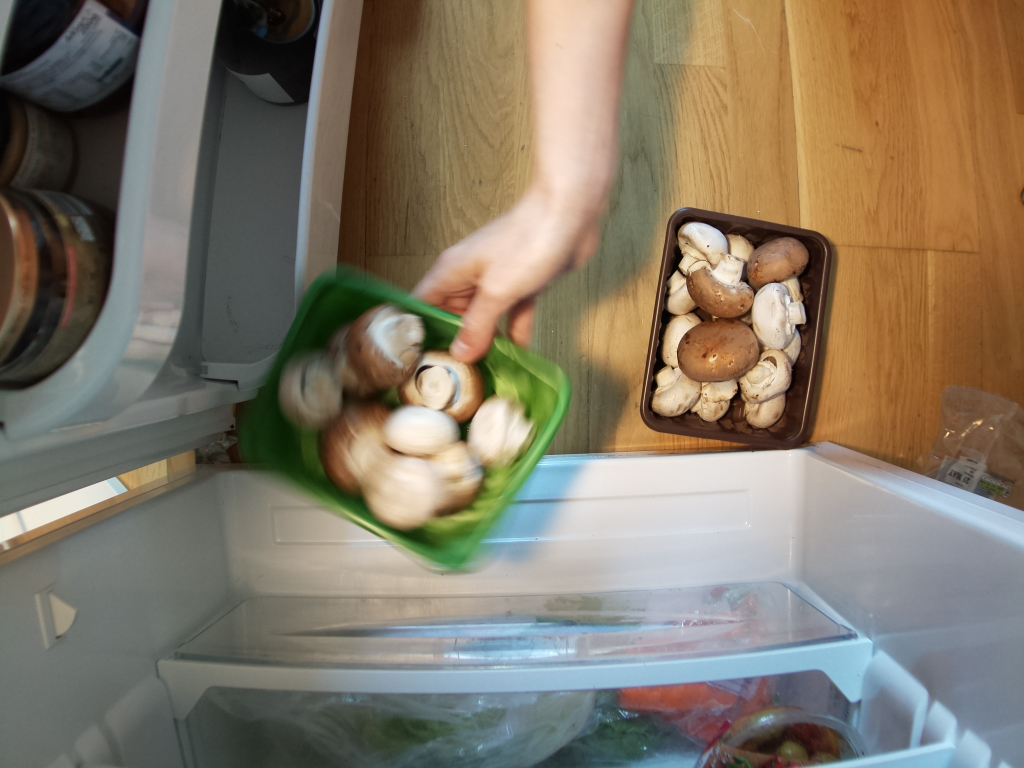mushrooms: (245, 270, 541, 539), (636, 214, 822, 444)
